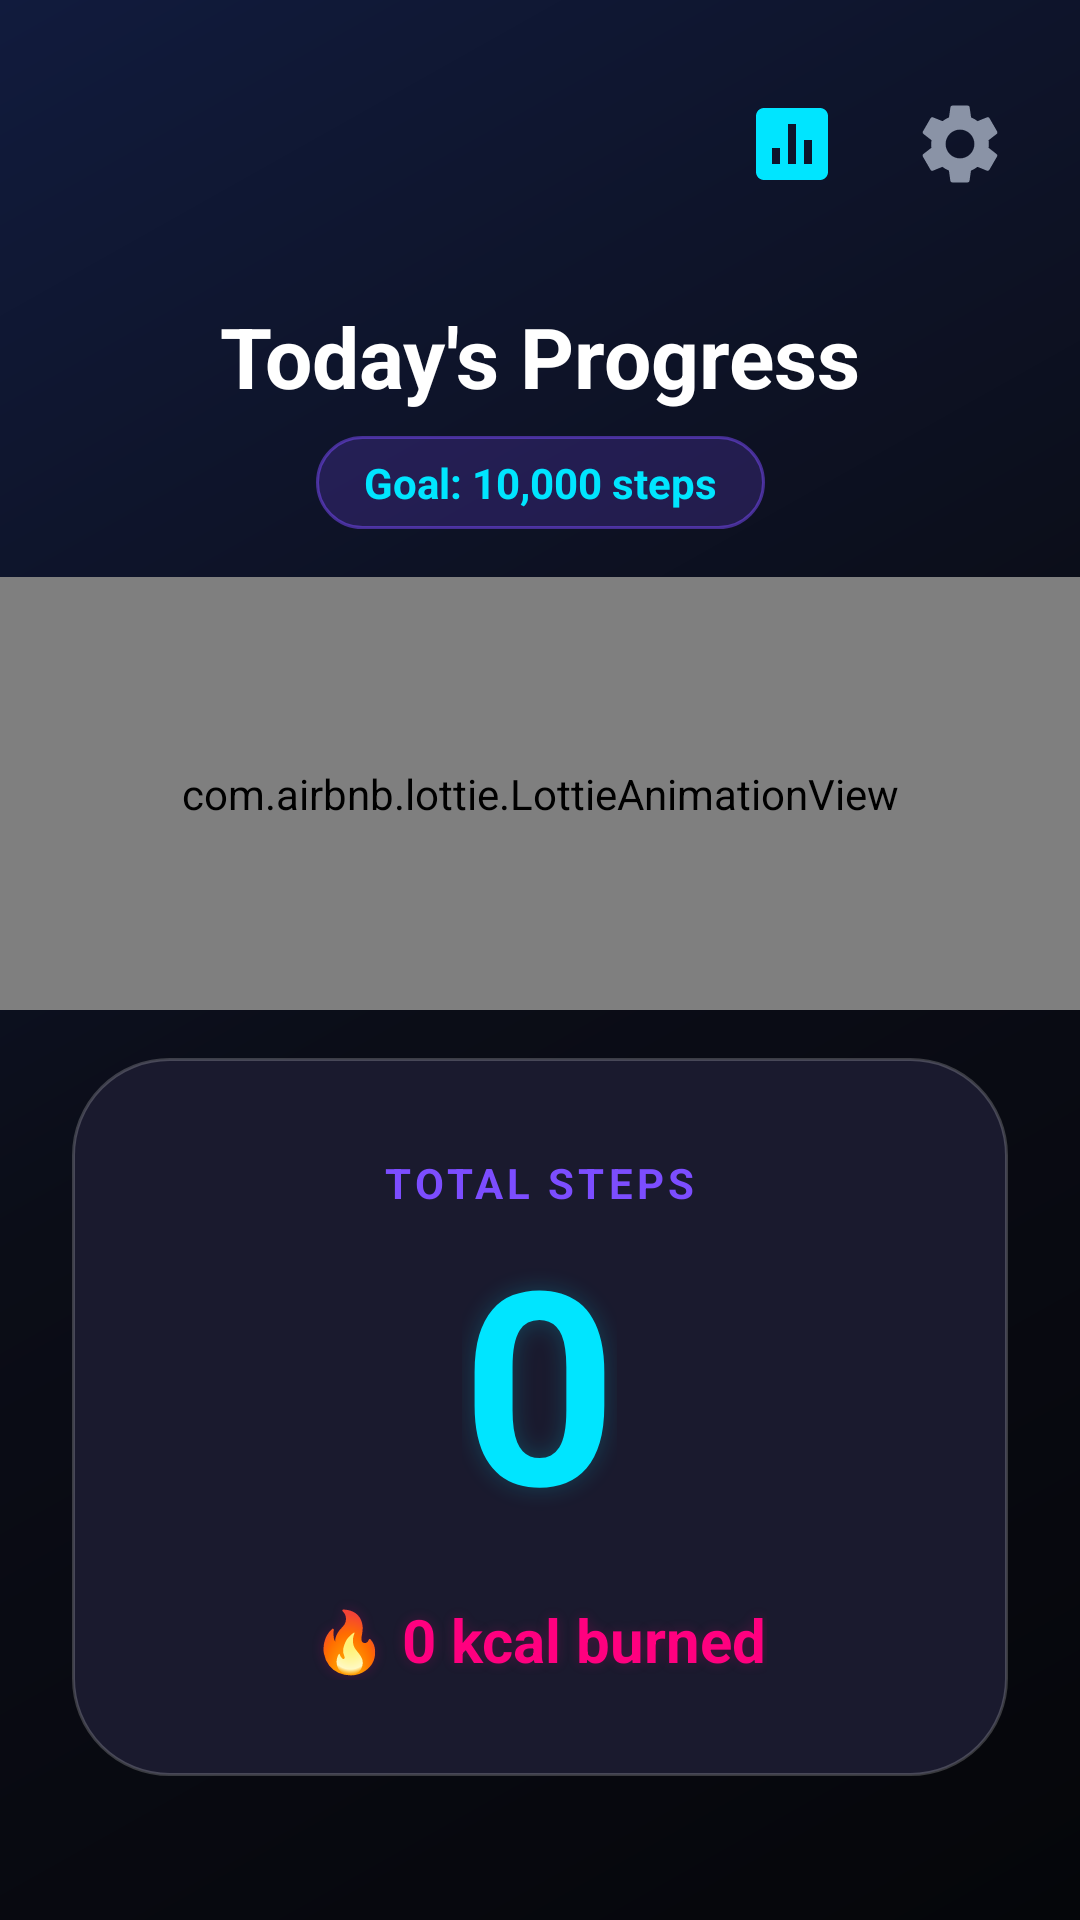

Screen size 1080 × 1920. Icon name, then its center in pixels as [x,y]:
settings: [960,144]
